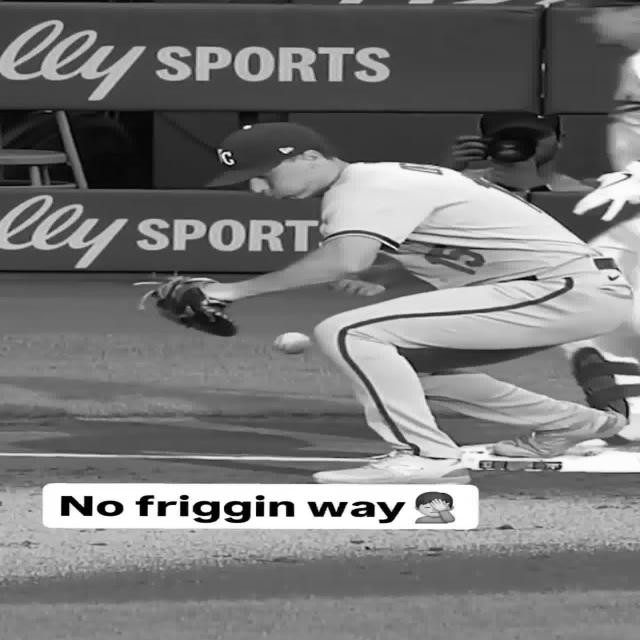base: (462, 444, 640, 472)
baseball: (273, 332, 313, 354)
baseball_glove: (136, 276, 238, 336)
shoe: (493, 411, 629, 458), (313, 450, 471, 484)
